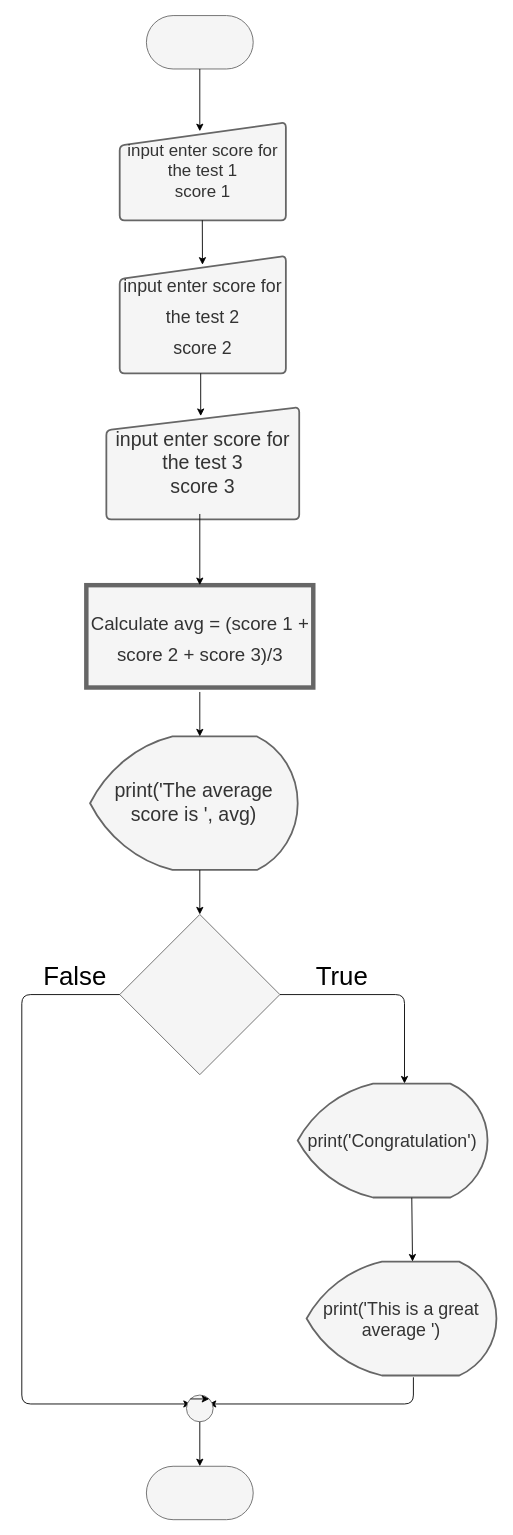
The diagram is 513 pixels wide and 1535 high, and some of its shapes have lost their labels. The centre of each missing label's shape, as x and y in pixels:
"avg >95" goes at pixel 199 994.
"End" goes at pixel 199 1492.
"start" goes at pixel 199 42.
